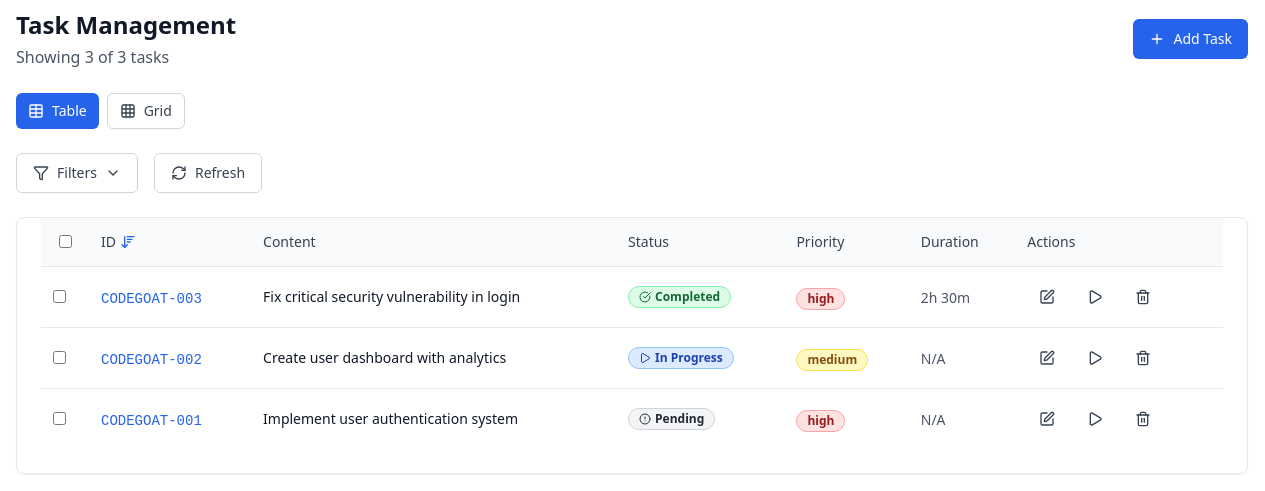
Scenario: TaskManagement › View Mode Toggle › switches between table and grid view
This screenshot has width=1265, height=491.
Check: the text "CODEGOAT-001" is shown, box top-left (101, 413), bottom-right (202, 429)
Check: the table is shown, box top-left (41, 218), bottom-right (1223, 449)
// Switch to grid view
Click the button "Grid".
click(146, 111)  # box top-left (107, 93), bottom-right (185, 129)
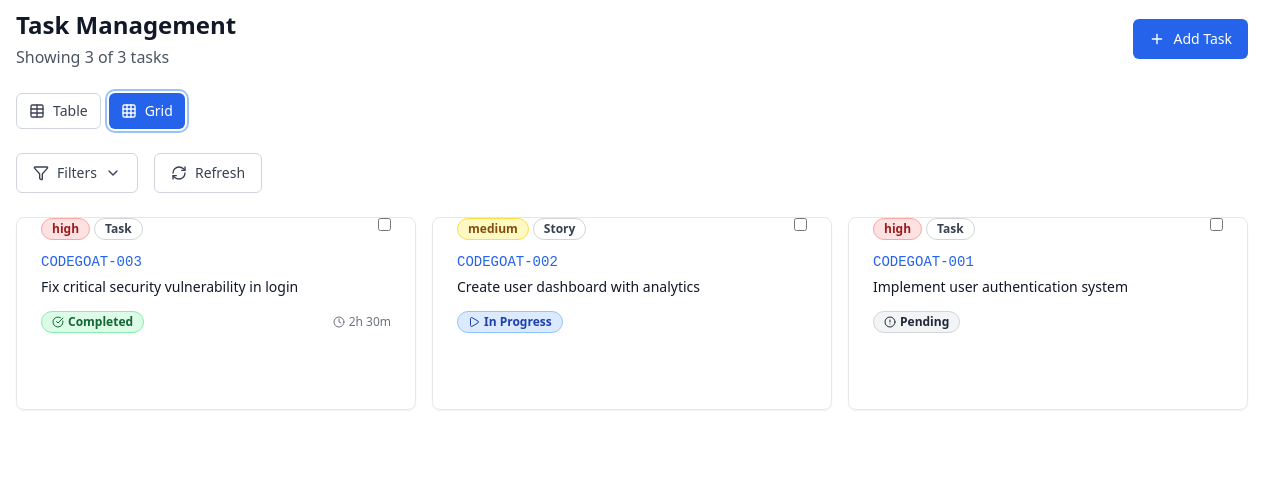
Check: the table is gone
Check: the text "CODEGOAT-001" is shown once, box top-left (873, 254), bottom-right (974, 270)
